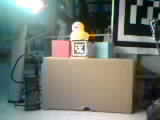duck: (64, 16, 84, 39)
